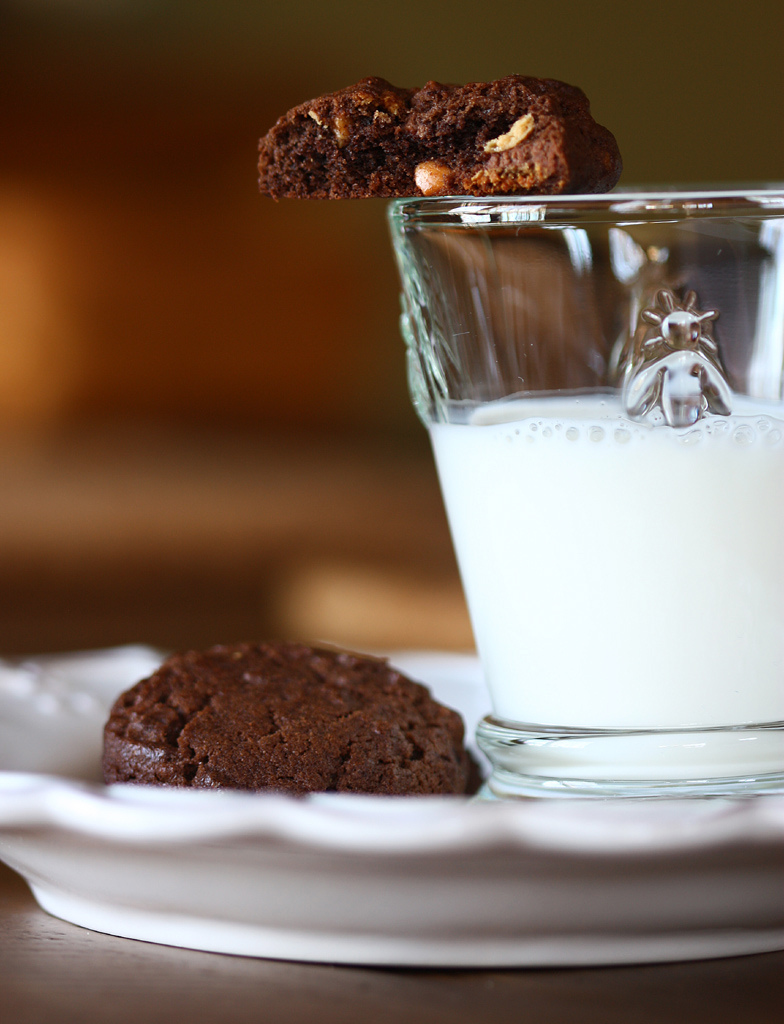glass of milk: (395, 206, 784, 786)
